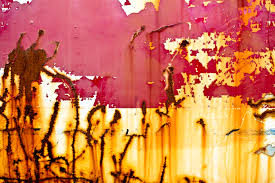rust: (2, 32, 45, 175), (107, 133, 139, 183), (80, 102, 114, 147), (68, 93, 80, 180), (160, 63, 179, 114), (241, 93, 275, 121), (42, 99, 61, 143), (49, 66, 76, 96), (140, 98, 150, 145), (174, 35, 194, 52), (224, 125, 243, 138), (196, 114, 210, 131)
